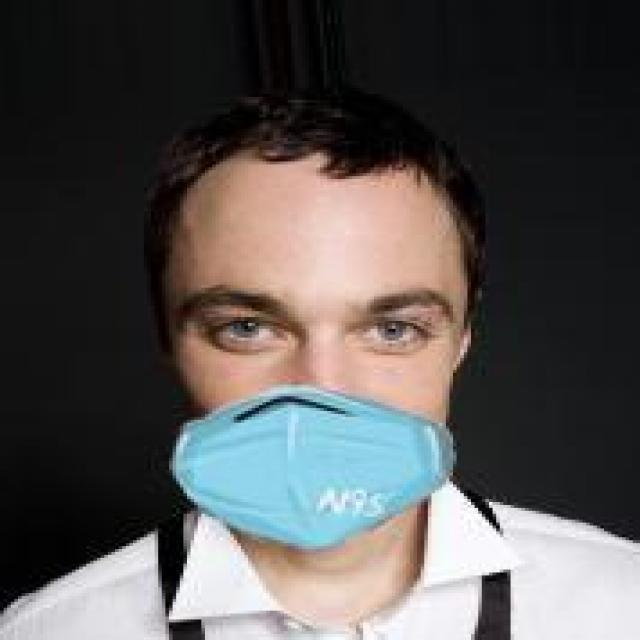mask: (87, 103, 558, 581)
